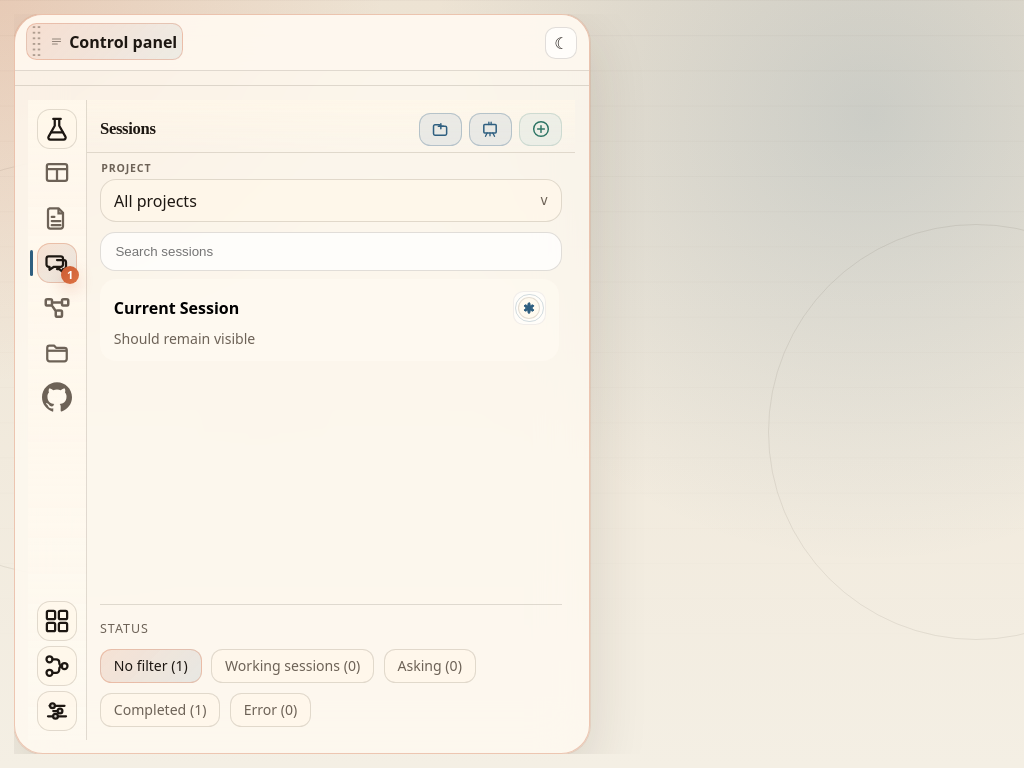
Scenario: App preferences › separates theme selection from editor and UI appearance controls in preferences
Step 1. Click the button named "Open preferences" → (57, 711), box [37,691,77,731]
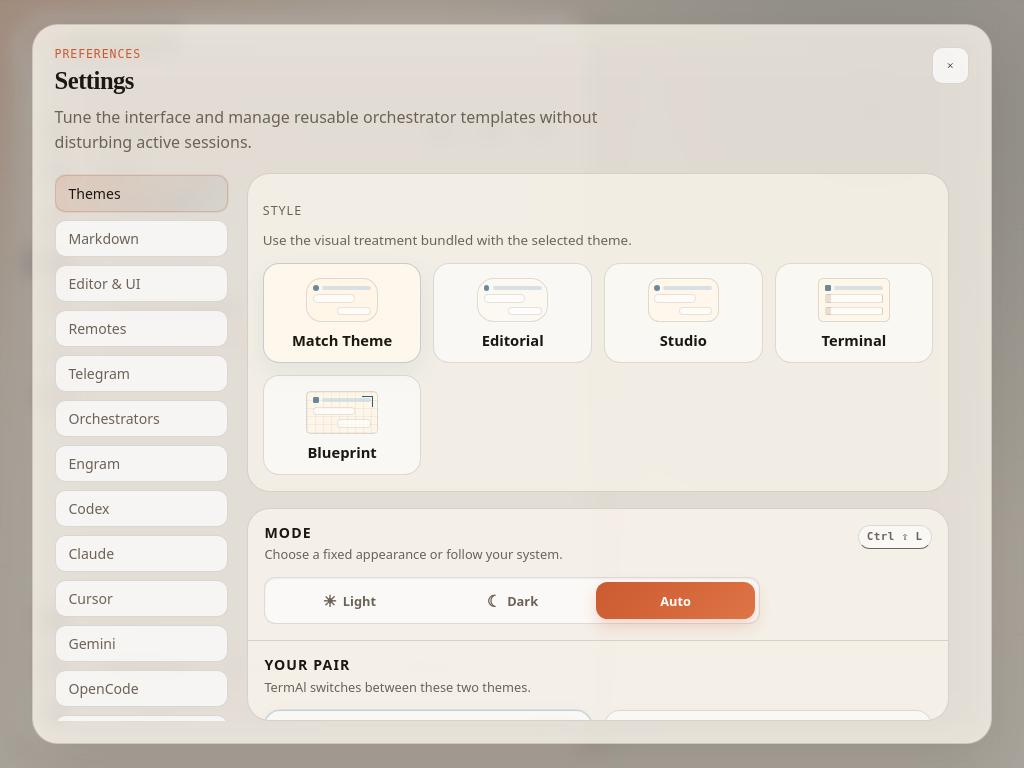
Expected: the heading "Font sizes" is not shown
Expected: the element named "UI style" is shown, [263,263,933,476]
Step 2. Click the tab "Editor & UI" → (141, 283), box [55,265,228,302]
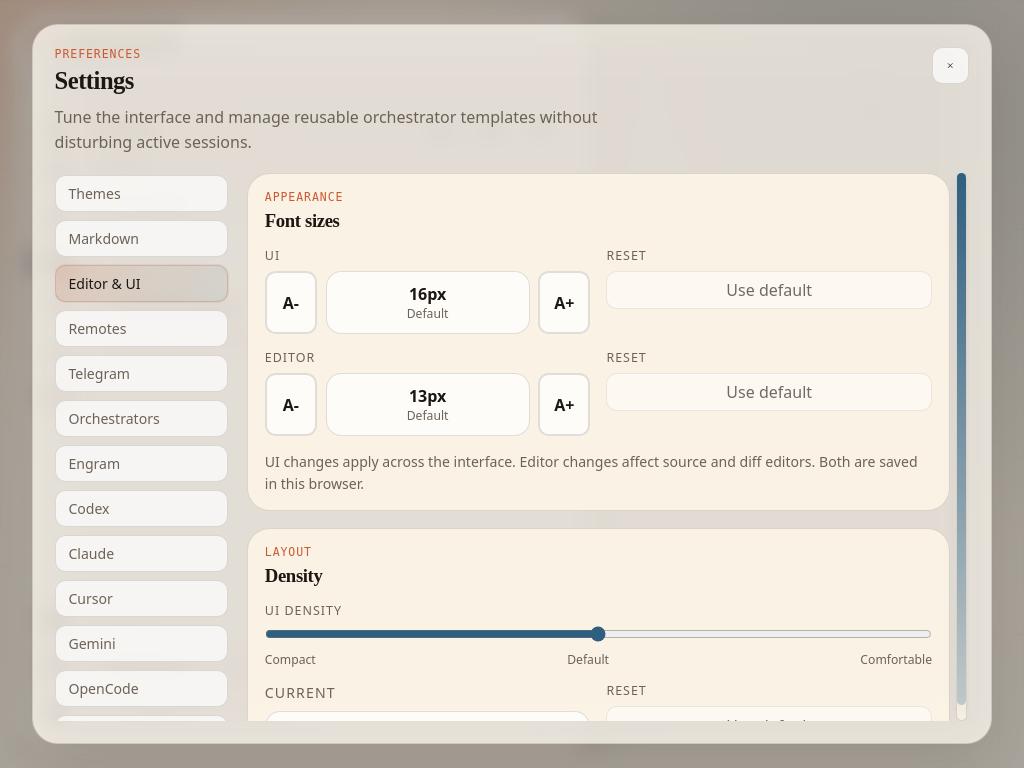
Expected: the heading "Font sizes" is shown, [264,211,339,232]
